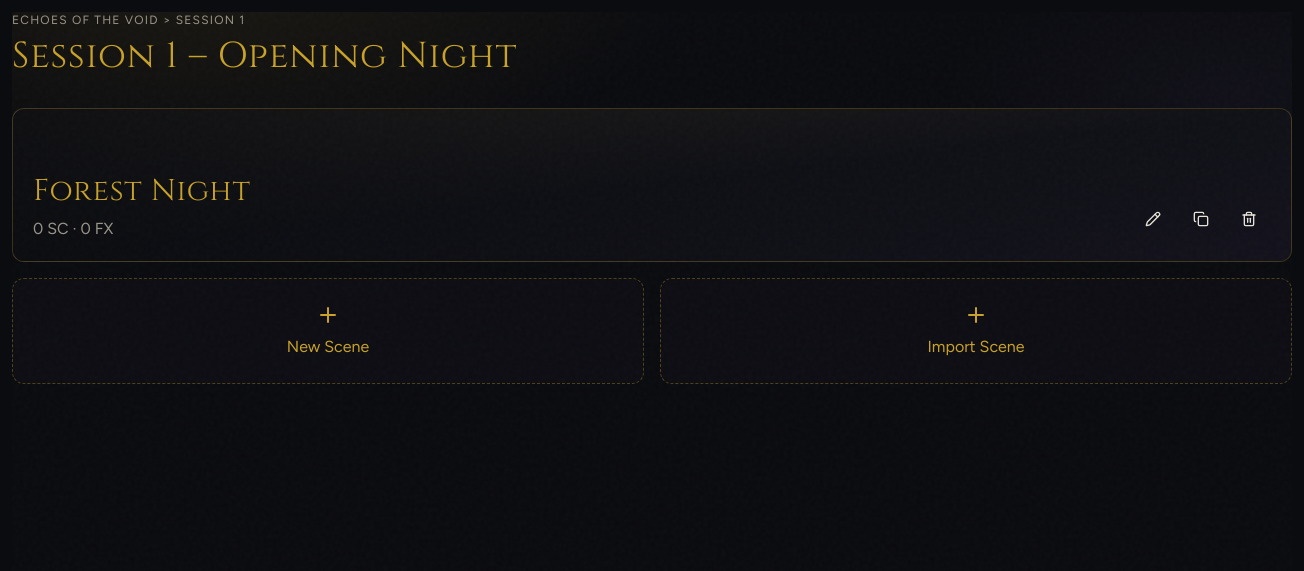
Test: SessionScenesPage › duplicates a session scene and auto-links the copy
Click the button named "Duplicate Forest Night" at (1201, 219), box left=1179, top=197, right=1223, bottom=241
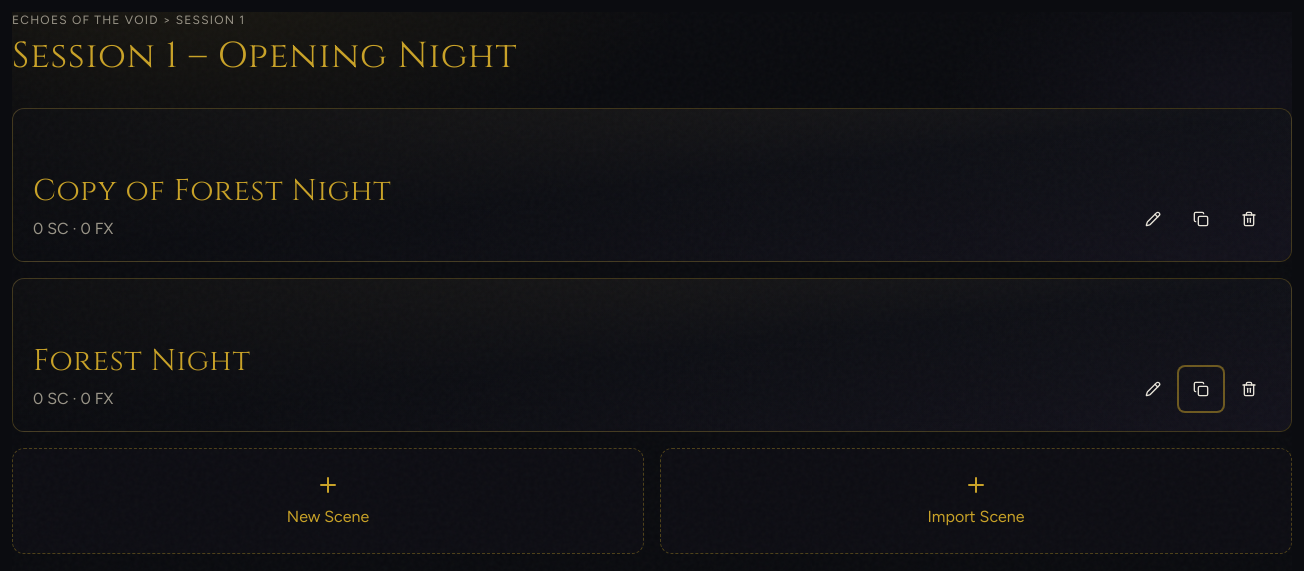
Expected: the heading "Forest Night" is shown, left=33, top=341, right=250, bottom=381
Expected: the heading "Copy of Forest Night" is shown, left=33, top=171, right=391, bottom=211
